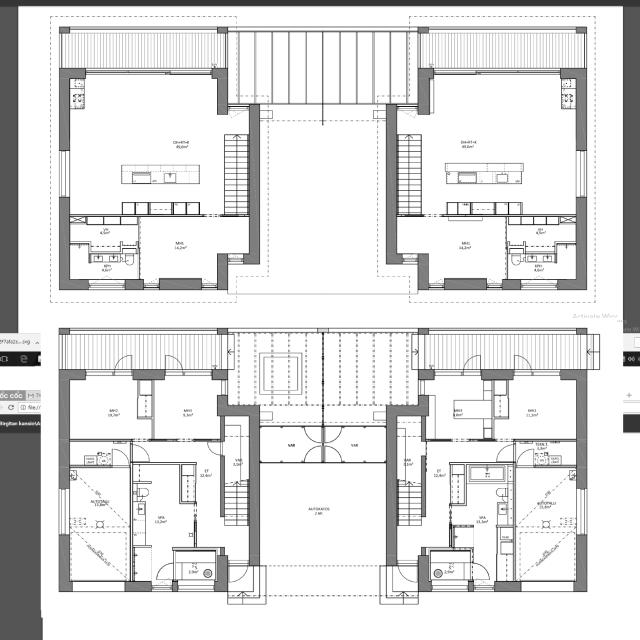door: (395, 559, 419, 586), (227, 559, 250, 585), (113, 352, 134, 377), (129, 442, 152, 464), (494, 441, 516, 464), (461, 353, 483, 376), (510, 353, 532, 376), (515, 444, 536, 468), (162, 354, 184, 376), (110, 446, 131, 467), (469, 561, 491, 581), (302, 424, 323, 443), (323, 424, 343, 443), (302, 444, 322, 463), (154, 561, 174, 580), (205, 438, 225, 456), (324, 444, 343, 462), (227, 104, 248, 119)
window: (573, 147, 589, 200), (56, 149, 72, 200), (56, 486, 72, 536), (574, 486, 589, 534), (162, 67, 210, 78), (430, 583, 470, 593), (177, 368, 212, 379), (176, 582, 214, 592), (432, 368, 466, 379), (529, 368, 562, 379), (83, 368, 115, 379), (87, 282, 126, 290), (520, 282, 556, 289), (400, 253, 418, 266), (226, 253, 245, 265), (149, 583, 174, 592), (217, 378, 229, 396), (472, 583, 495, 592), (485, 280, 503, 290), (142, 280, 160, 290), (426, 282, 446, 290), (343, 460, 366, 464)
zone: (66, 72, 224, 147), (74, 215, 239, 280), (427, 73, 575, 123), (419, 216, 506, 285), (448, 463, 512, 552), (66, 375, 152, 440), (131, 464, 195, 550), (495, 375, 579, 440), (423, 375, 495, 442), (151, 377, 222, 443), (514, 466, 579, 531), (66, 466, 131, 530), (258, 332, 304, 407), (258, 426, 324, 464), (324, 426, 386, 463), (396, 414, 424, 488), (427, 549, 472, 588), (514, 440, 578, 466), (71, 258, 139, 282), (174, 550, 217, 585), (69, 441, 112, 466), (466, 464, 512, 484), (180, 472, 193, 502), (24, 390, 40, 400)
